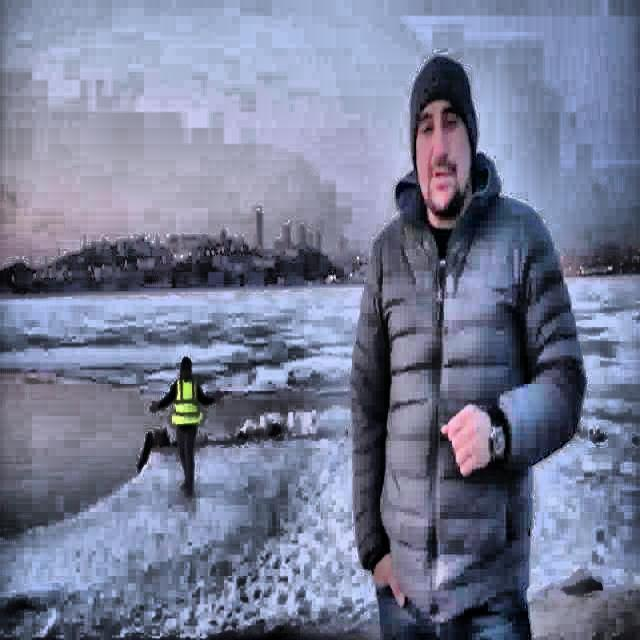safety_jacket: (171, 377, 203, 430)
